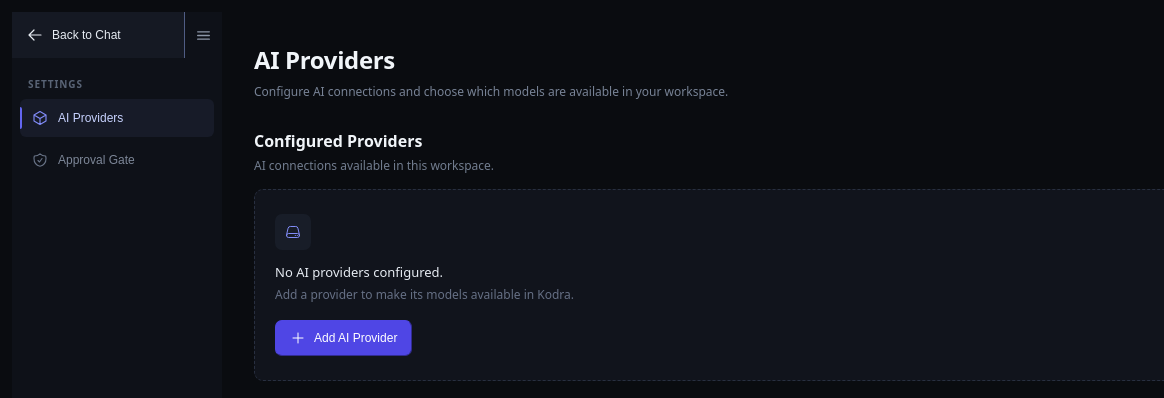
Scenario: SettingsPage › toggles sidebar collapsed state when hamburger button is clicked
// Click to collapse
Click the button titled "Collapse sidebar" at point(203, 35), box [184, 12, 222, 58]
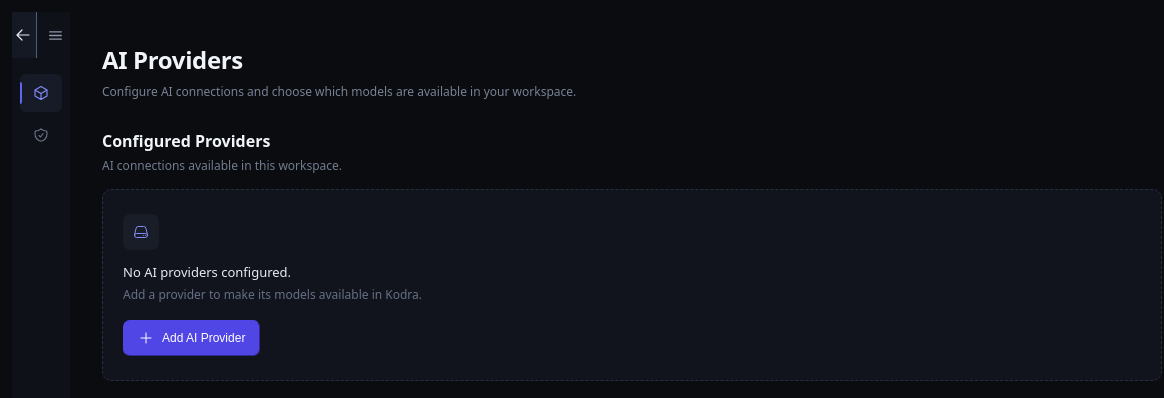
Expected: the button titled "Expand sidebar" is shown
// Click to expand again
Click the button titled "Expand sidebar" at point(55, 35), box [36, 12, 74, 58]
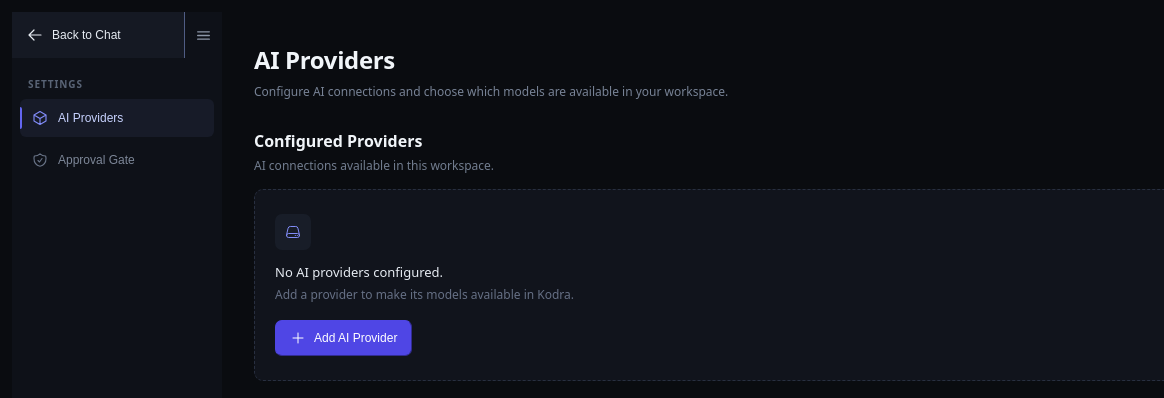
Expected: the button titled "Collapse sidebar" is shown, [184, 12, 222, 58]
Expected: the text "Settings" is shown, [28, 77, 83, 91]
